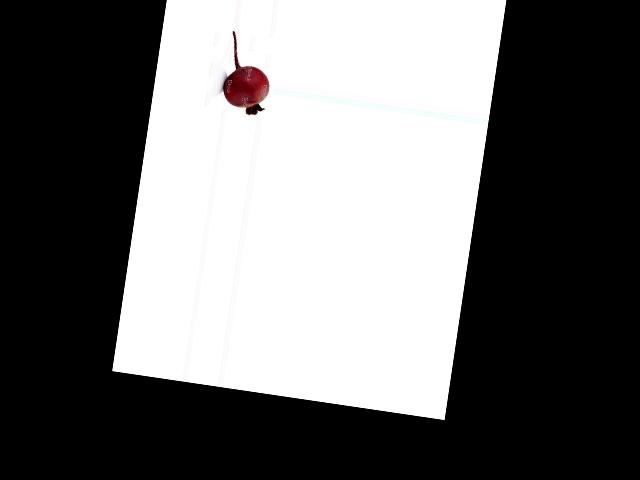beet: (219, 31, 276, 117)
